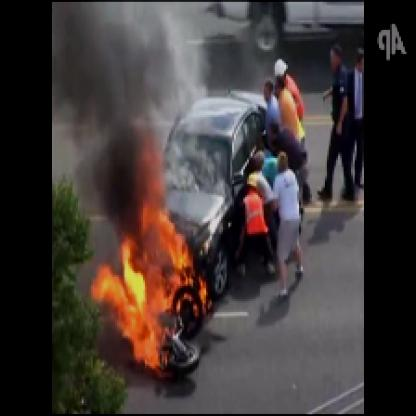Fire: (91, 139, 217, 383), (55, 2, 148, 199)
